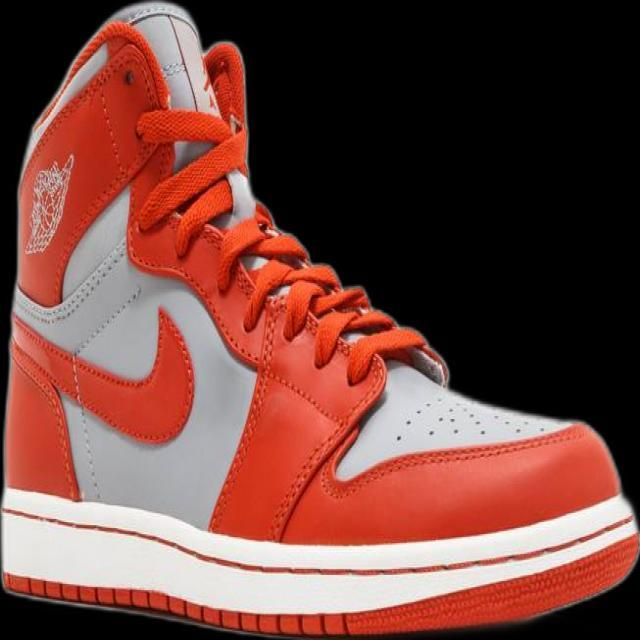J1_InsoleChar: (0, 0, 639, 639)
J1_ShoeLogo: (23, 152, 75, 255)
J1_StitchPattern: (0, 490, 639, 636), (132, 103, 449, 390), (209, 214, 448, 388), (9, 239, 142, 503), (1, 570, 351, 639), (390, 391, 562, 448)
